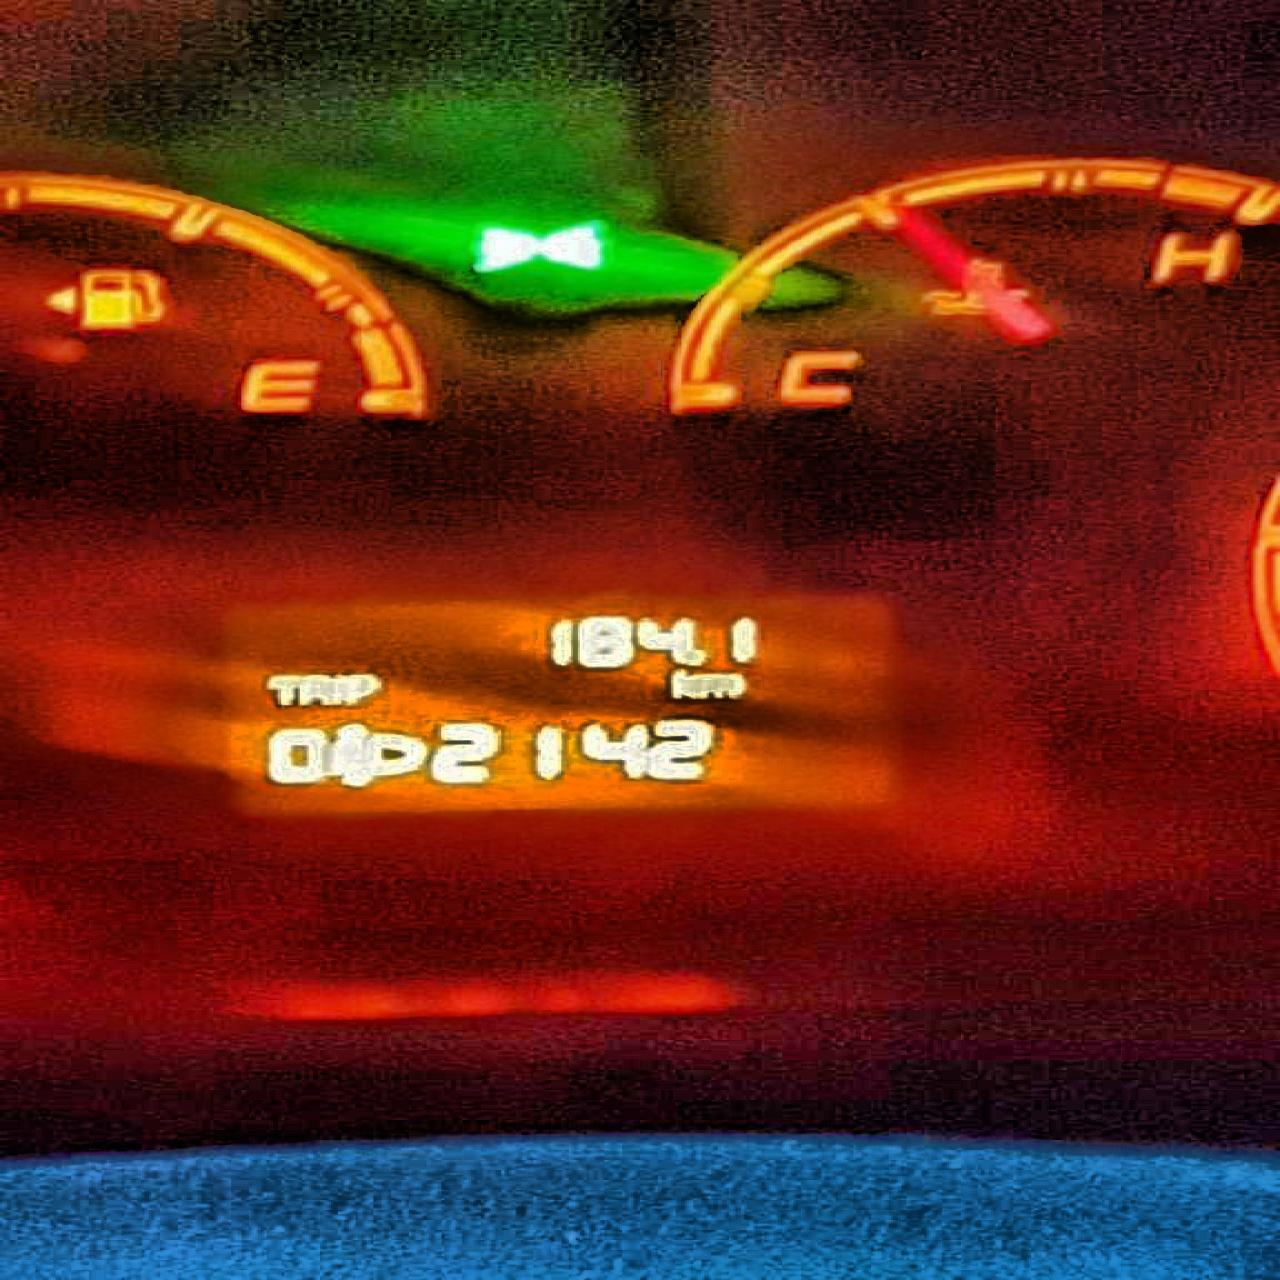-: (689, 646, 712, 665)
0: (260, 723, 331, 787)
1: (524, 720, 566, 779), (720, 611, 760, 665), (543, 615, 576, 670)
2: (427, 719, 502, 785), (647, 713, 715, 783)
4: (576, 720, 645, 779), (633, 612, 695, 669)
8: (571, 611, 638, 670)
X: (700, 668, 749, 702), (258, 670, 298, 706), (349, 670, 384, 706), (665, 667, 697, 702), (298, 673, 329, 706), (327, 672, 347, 707)
odometer: (193, 584, 927, 831)
